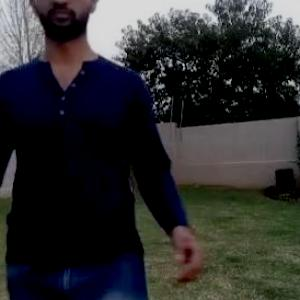follow: (1, 0, 161, 299)
